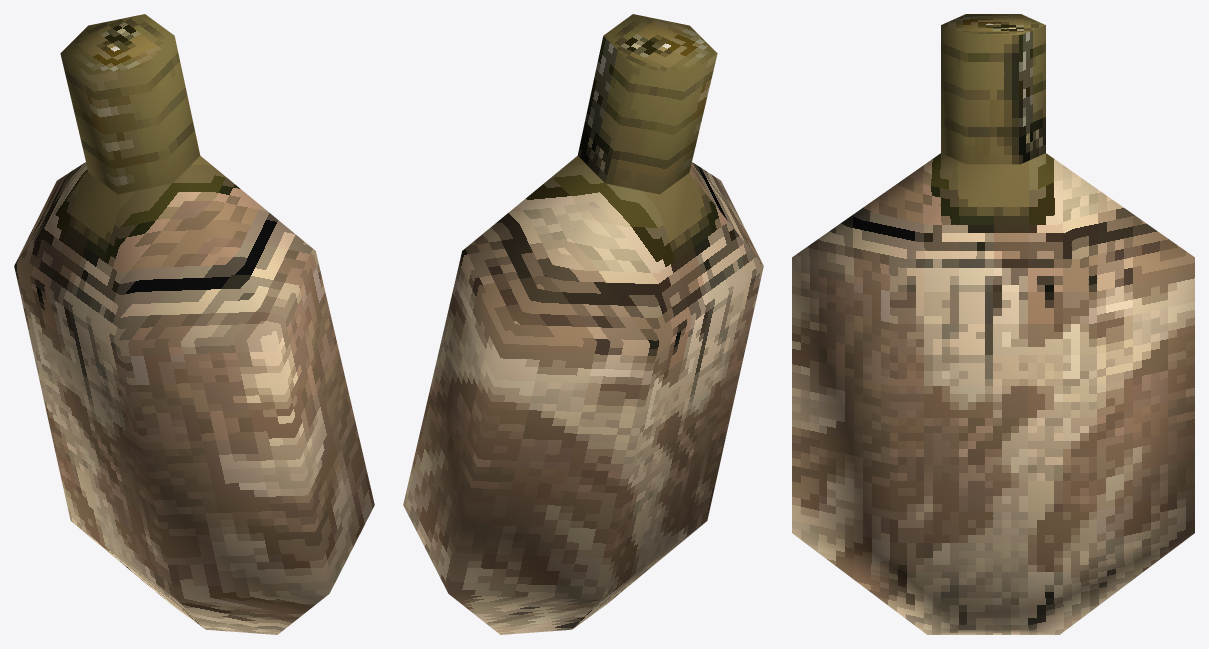
The model's file is IR_BottlePouch.glb.
The picture shows the model from 3 angles, left to right: view 1: azimuth 30°, elevation 25°; view 2: azimuth 150°, elevation 25°; view 3: azimuth 270°, elevation 25°; orthographic projection. The views are drawn at different scales.
Parts seen in each view (by area): view 1: IR_BOTTLEPOUCH; view 2: IR_BOTTLEPOUCH; view 3: IR_BOTTLEPOUCH.
Part boxes in pixels (x1=…): IR_BOTTLEPOUCH: x1=14, y1=14, x2=374, y2=634; IR_BOTTLEPOUCH: x1=403, y1=14, x2=763, y2=634; IR_BOTTLEPOUCH: x1=792, y1=14, x2=1194, y2=634.
Bounding box in the file's own units: 0.099 × 0.225 × 0.146.
Materials: 1 (1 with a texture image).
